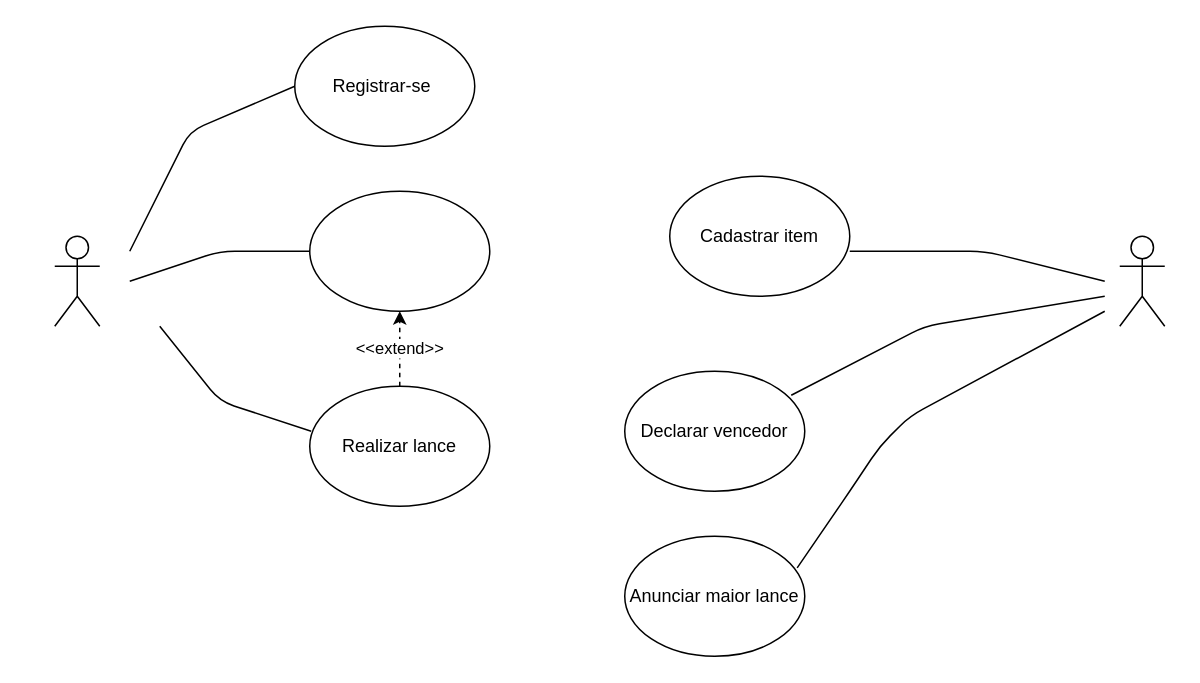
This 1200x683 diagram has some shape labels left out. The shapes that lost their labels are listed below. From the top down, each one's centre as x and y in pixels, then its label:
At (x=399, y=250): "Logar-se".
At (x=76, y=280): "Participantes".
At (x=1141, y=280): "Sistema".
